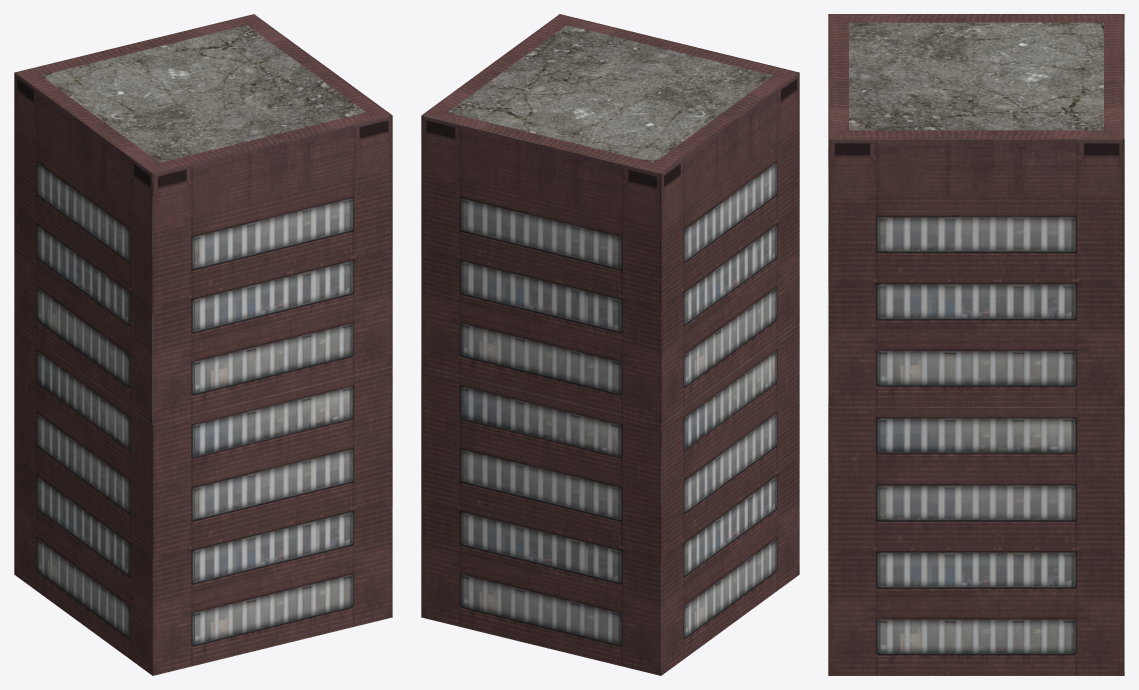
The model's file is Building_D.glb.
The picture shows the model from 3 angles, left to right: view 1: azimuth 30°, elevation 25°; view 2: azimuth 150°, elevation 25°; view 3: azimuth 270°, elevation 25°; orthographic projection. The views are drawn at different scales.
Parts seen in each view (by area): view 1: Building_D; view 2: Building_D; view 3: Building_D.
Boxes of the visible parts, x1=… form: Building_D: x1=14, y1=14, x2=392, y2=675; Building_D: x1=421, y1=14, x2=799, y2=675; Building_D: x1=828, y1=14, x2=1124, y2=675.
Bounding box in the file's own units: 15 × 30 × 15.
Materials: 1 (1 with a texture image).
